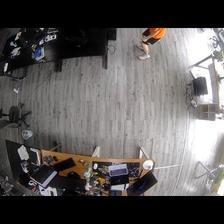fall: (134, 28, 165, 59)
